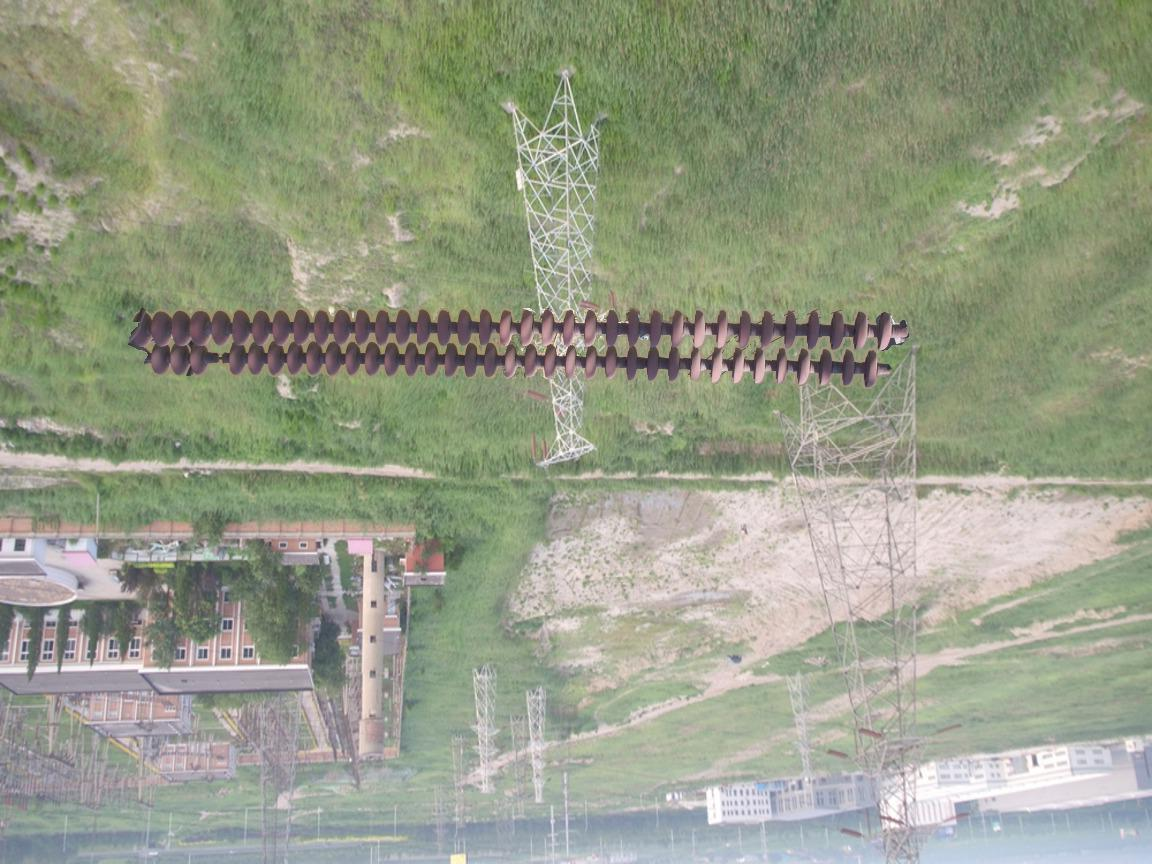insulator: (129, 300, 904, 389)
insulator_stringdrop: (187, 342, 248, 379)
